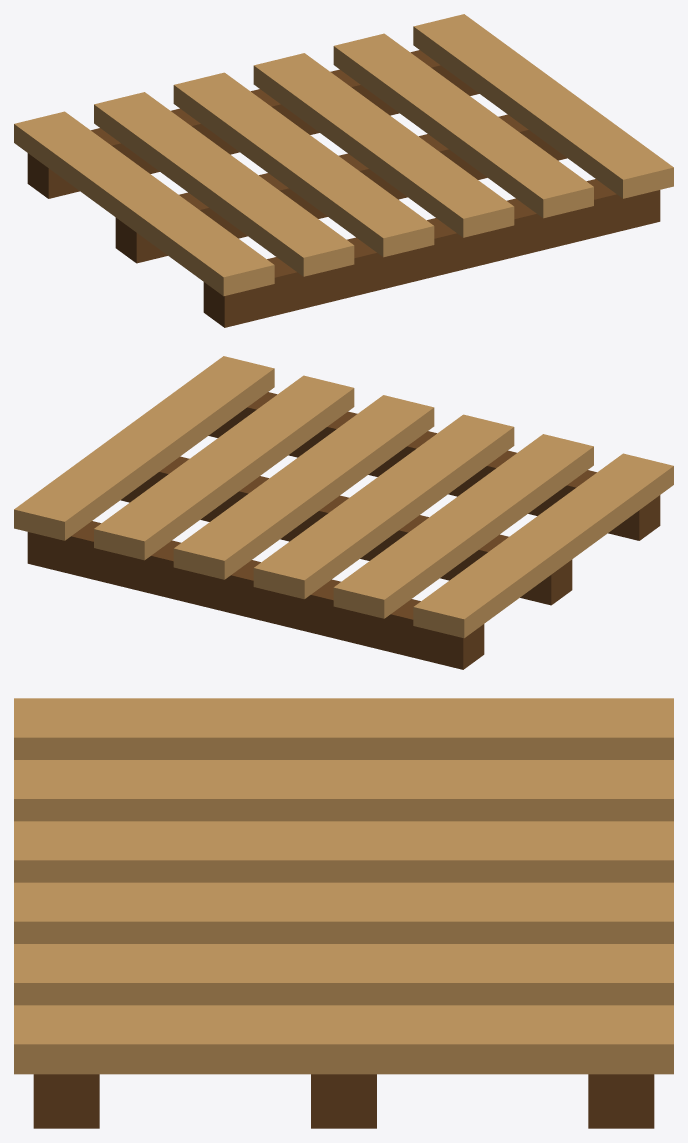
Rendered from pallet.glb.
The picture shows the model from 3 angles, top to bottom: view 1: azimuth 30°, elevation 25°; view 2: azimuth 150°, elevation 25°; view 3: azimuth 270°, elevation 25°; orthographic projection. The views are drawn at different scales.
Visible parts, largest first — view 1: Pallet; view 2: Pallet; view 3: Pallet.
Boxes of the visible parts, x1,y1,x2,y2 form: Pallet: [14, 14, 673, 327]; Pallet: [14, 356, 673, 669]; Pallet: [14, 698, 673, 1128].
Size of the model in its own units: 1.24 by 0.15 by 1.
